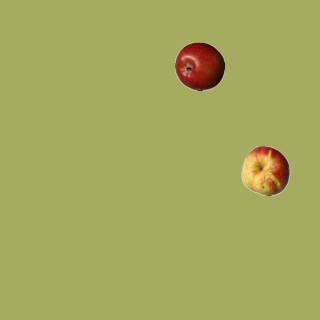Apple Braeburn: (174, 41, 224, 91)
Apple Red Yellow 1: (240, 145, 290, 195)
